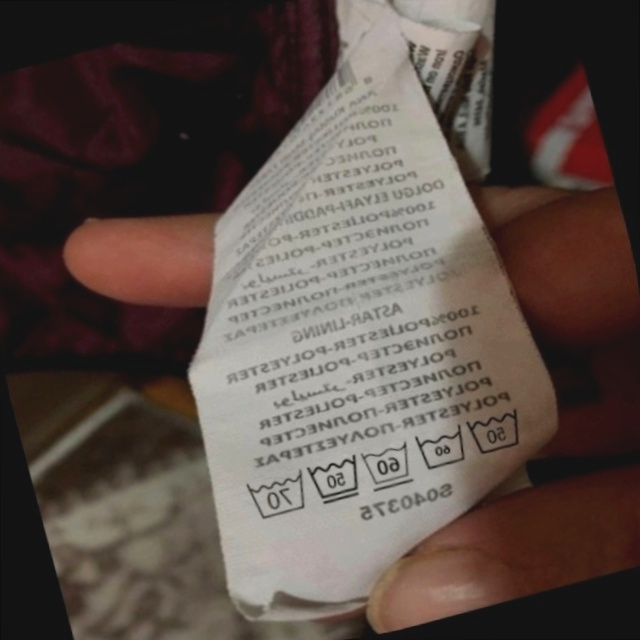50C: (457, 396, 535, 466), (299, 446, 371, 514)
60C: (352, 433, 421, 498), (406, 417, 475, 480)
70C: (235, 463, 314, 529)
